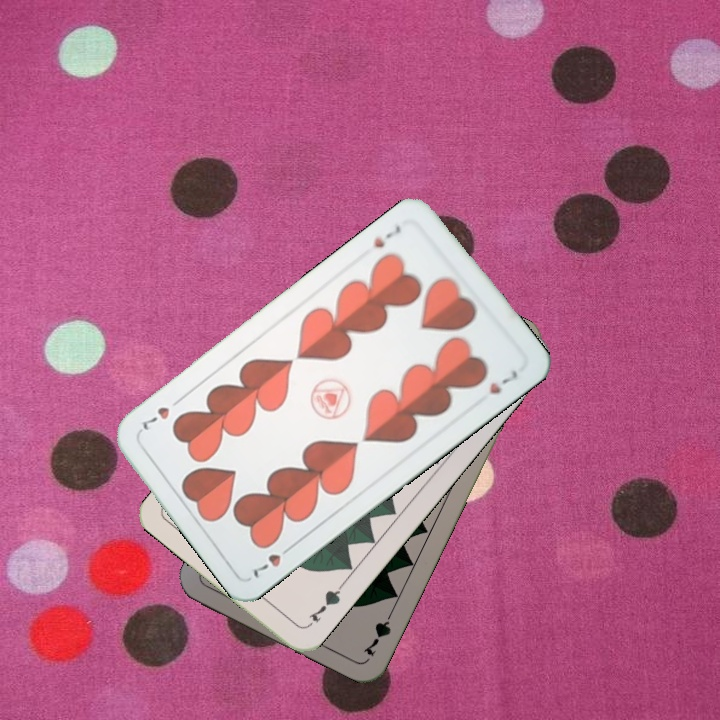G7: (359, 604, 397, 659), (304, 580, 345, 626)
H7: (249, 540, 297, 581), (370, 221, 404, 251)
